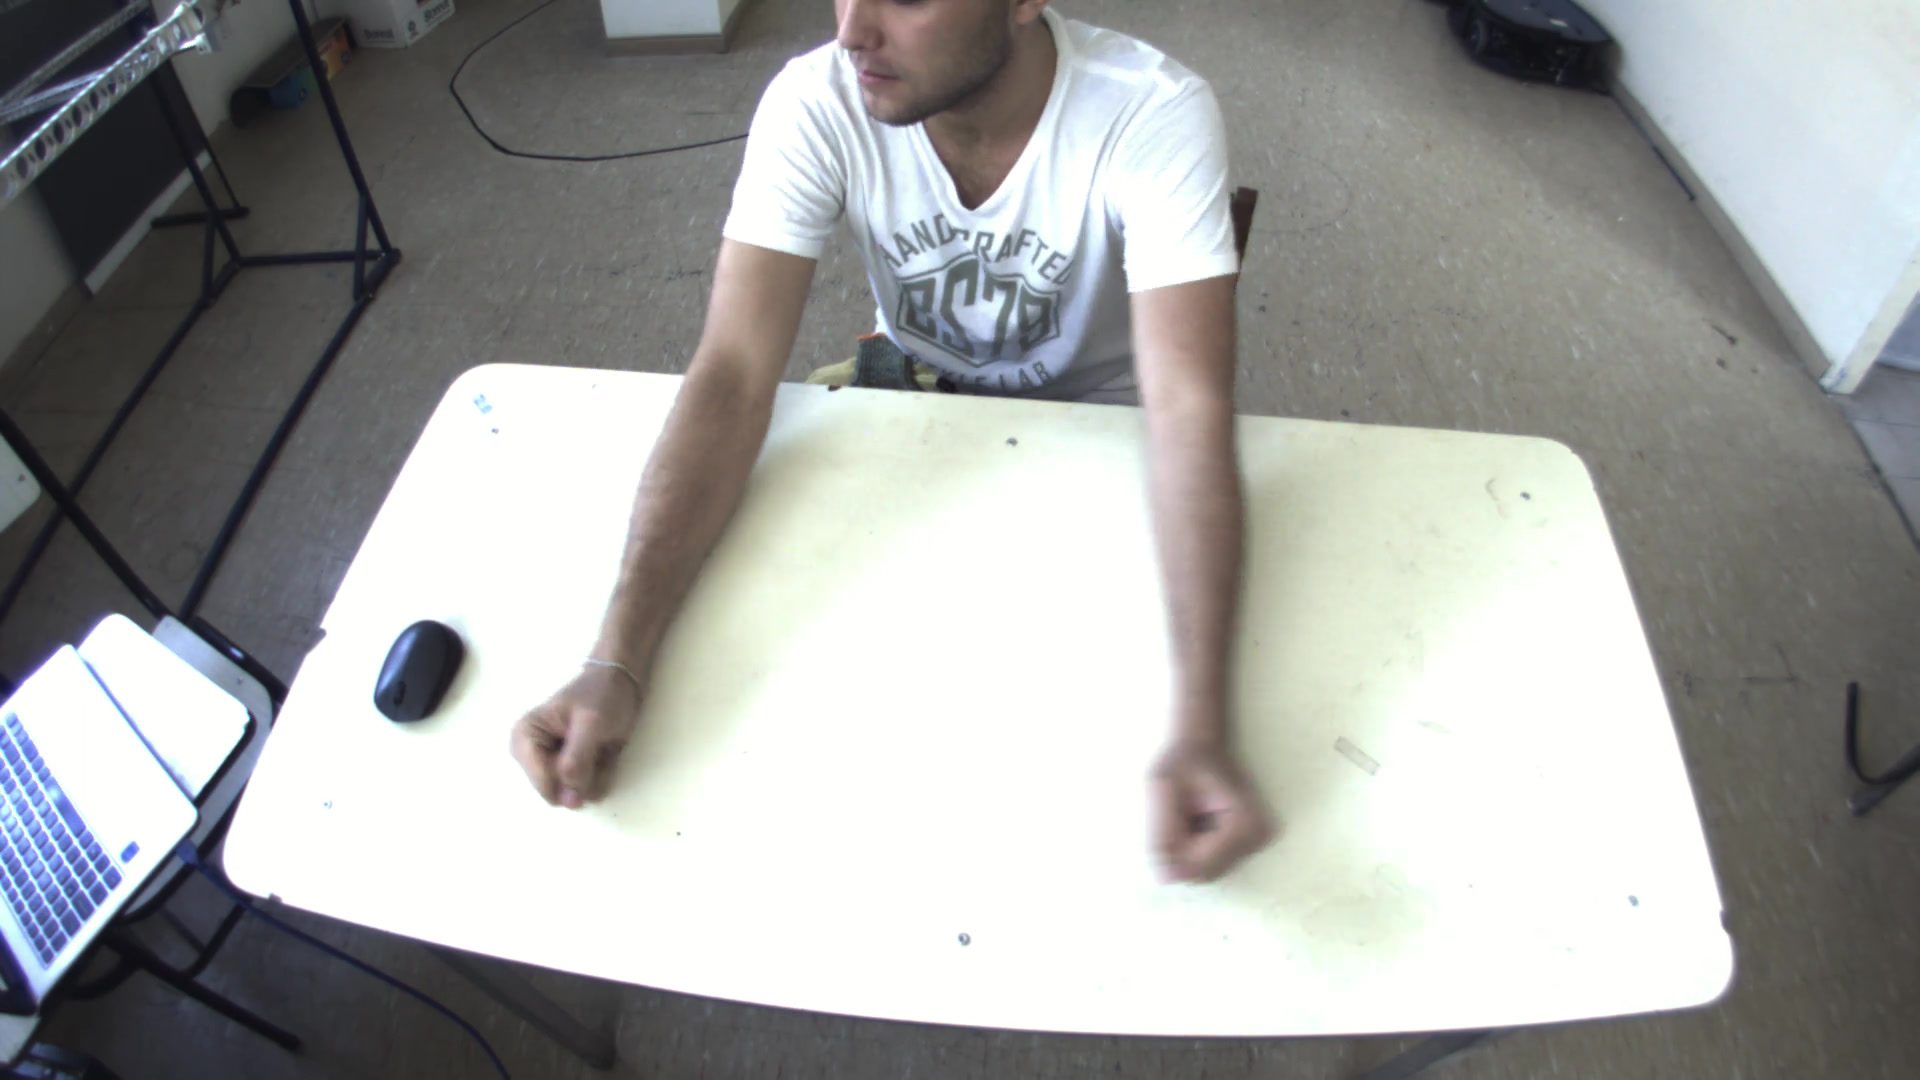hand: (501, 651, 651, 812), (1135, 733, 1282, 895)
